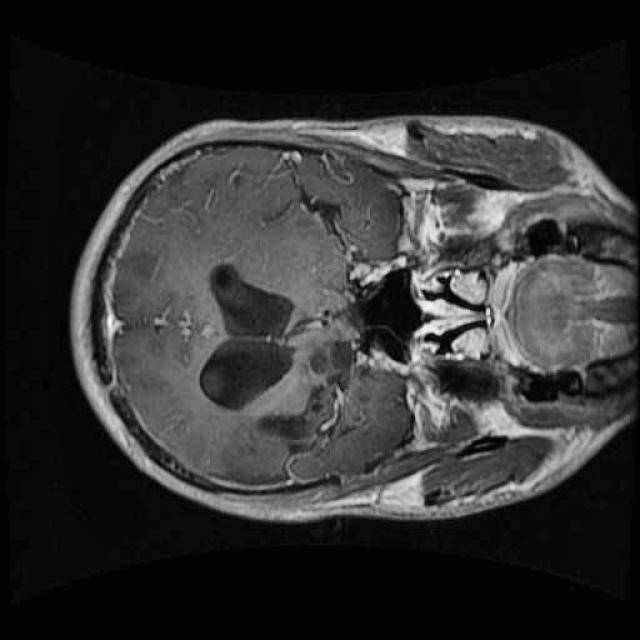Non-Tumor: (239, 316, 371, 468)
